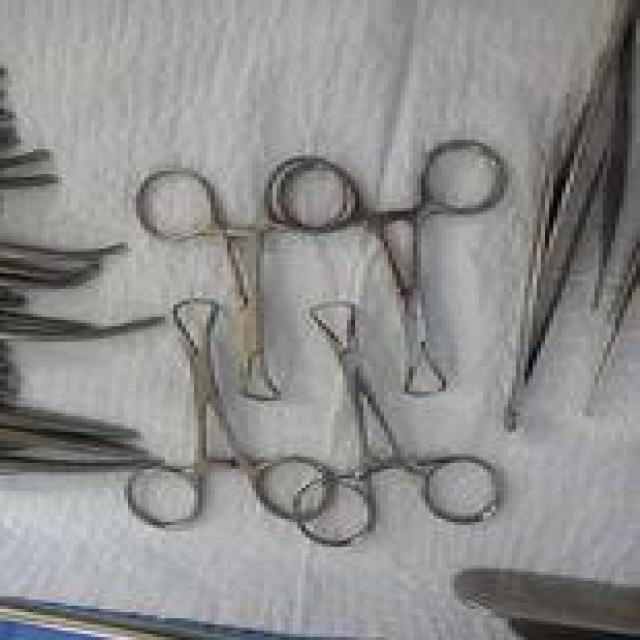Forceps: (503, 84, 628, 438)
Towel_clip: (268, 137, 512, 400), (289, 295, 512, 553), (132, 156, 359, 407), (120, 296, 338, 534)
